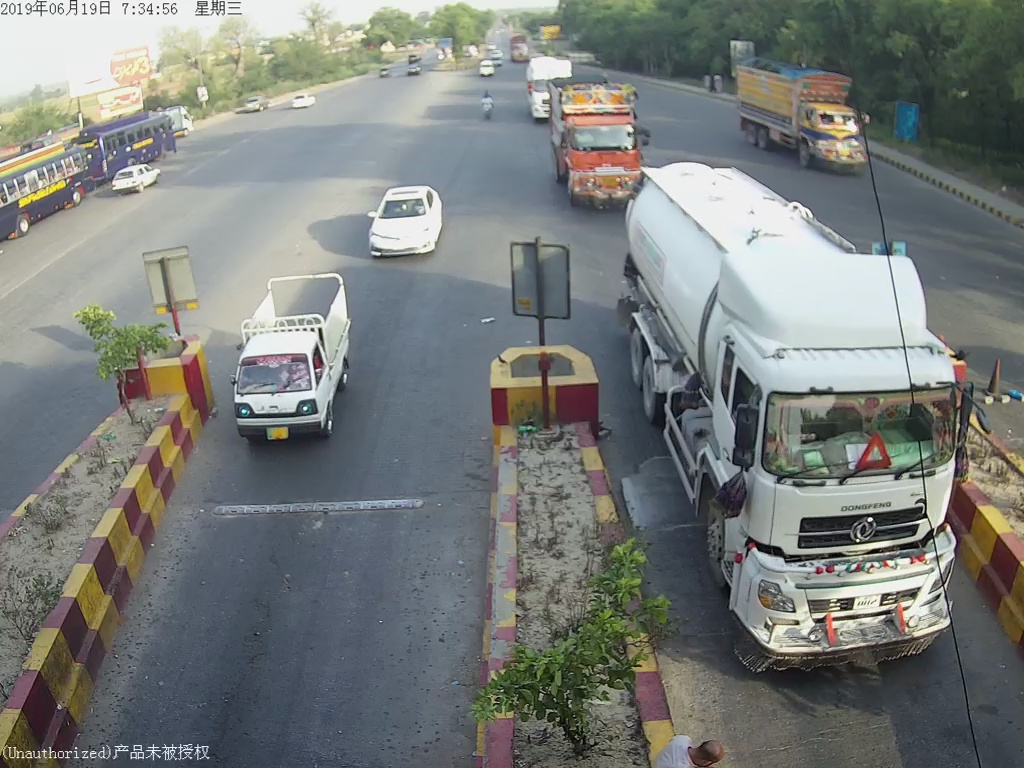Cat-1: (227, 271, 361, 437), (358, 174, 448, 264)
Cat-4: (612, 167, 990, 695)
